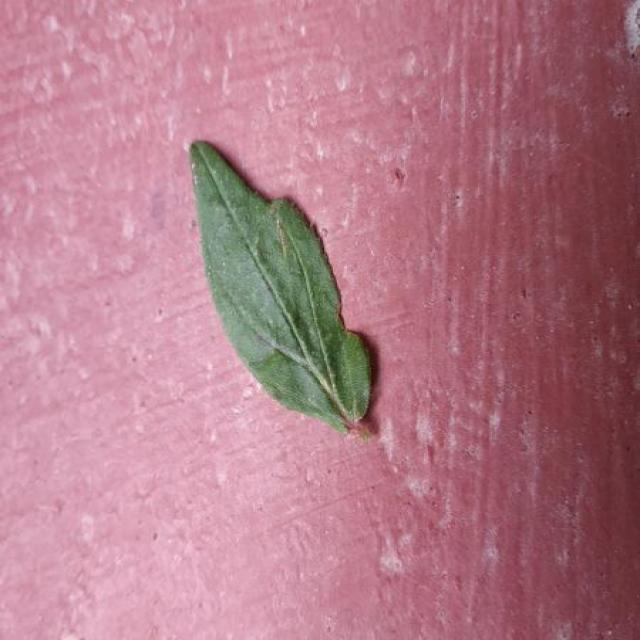Astma_weed: (190, 141, 370, 433)
